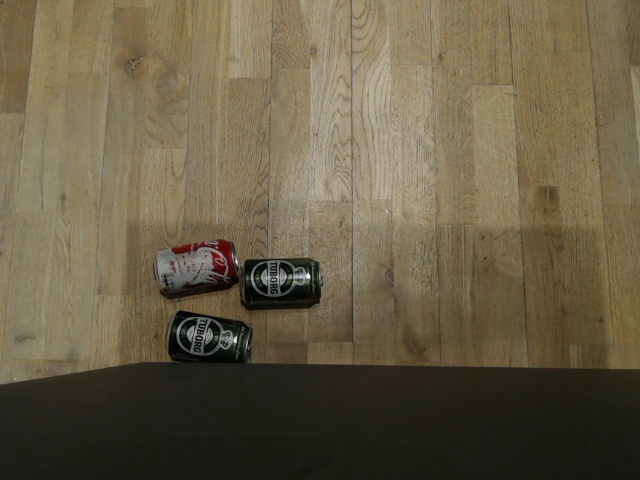beer: (239, 252, 327, 313), (160, 310, 255, 364)
cola: (148, 236, 241, 297)
